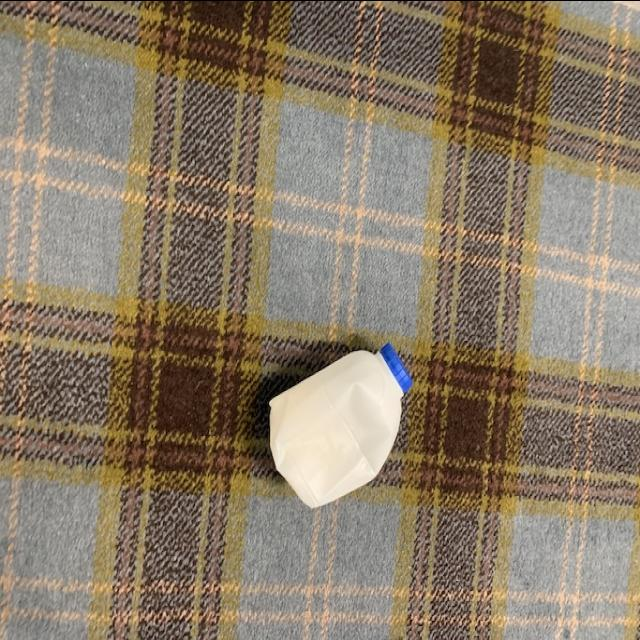HDPEM: (266, 337, 416, 505)
